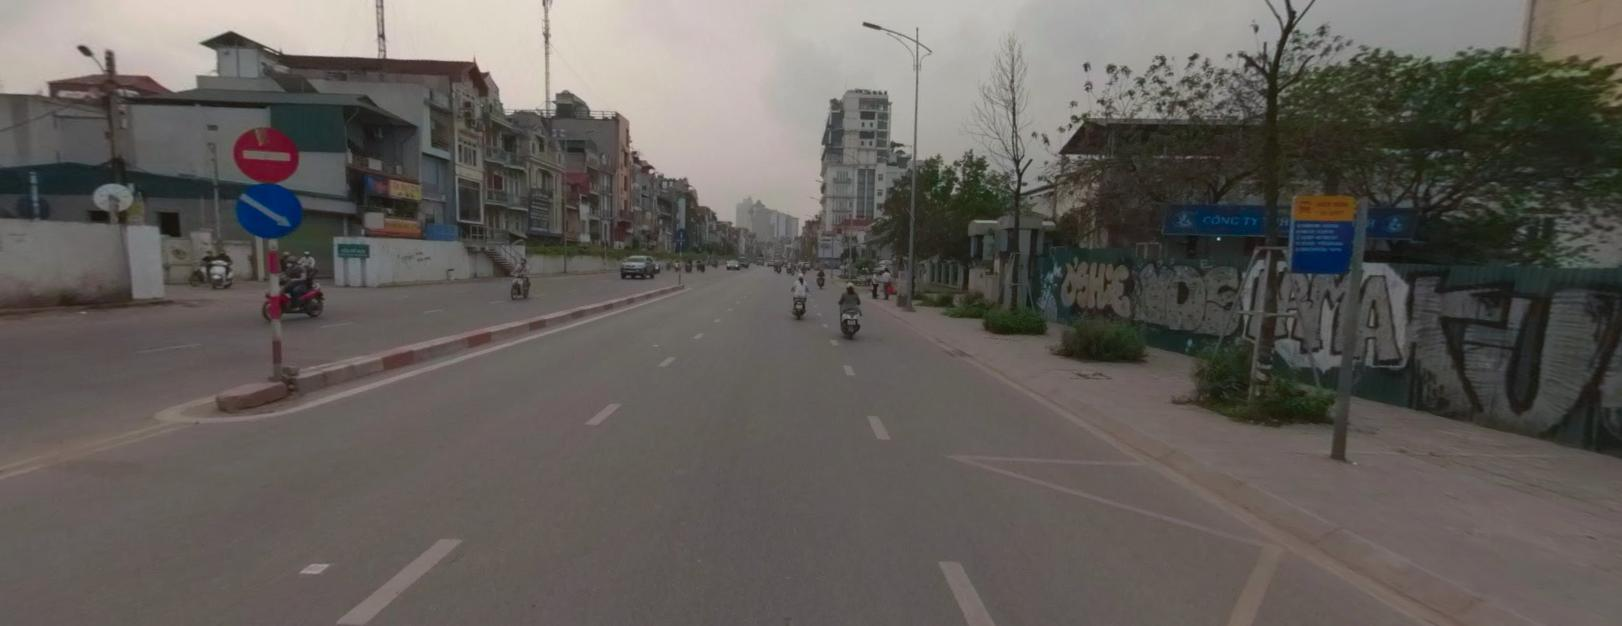Cam nguoc chieu: (230, 125, 301, 182)
Hieu lenh: (231, 181, 302, 237)
